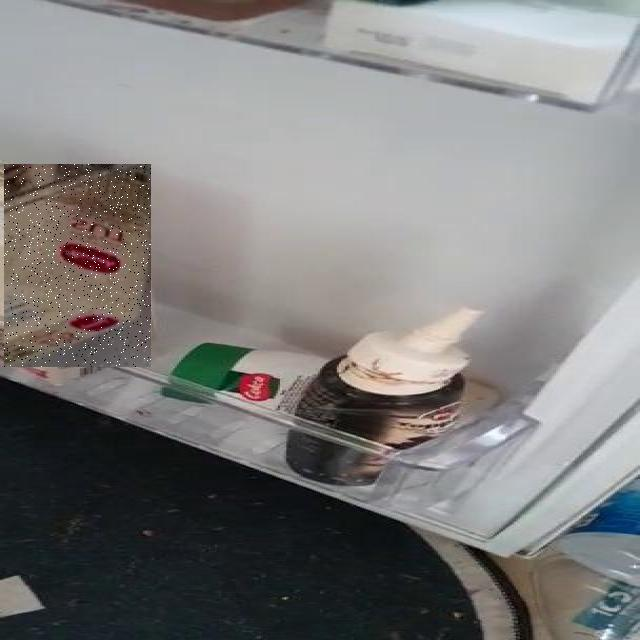Milk: (4, 164, 151, 367)
